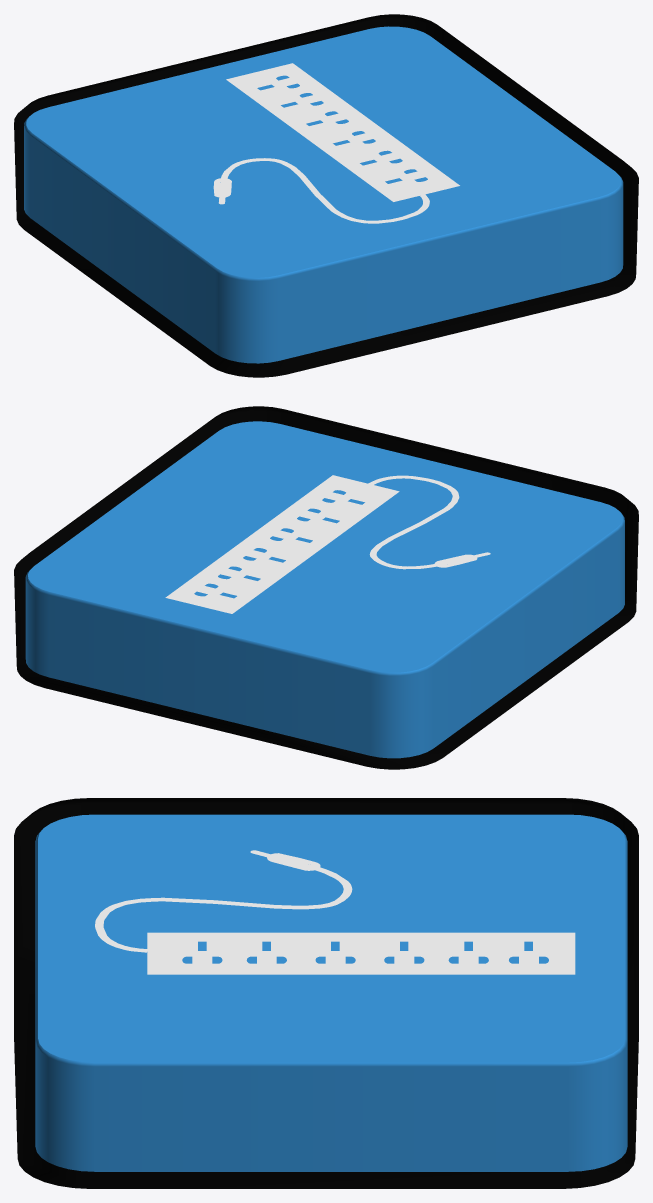
File: RPDU.obj
3 renders of one model, top to bottom at view 1: azimuth 30°, elevation 25°; view 2: azimuth 150°, elevation 25°; view 3: azimuth 270°, elevation 25°, orthographic. The views are drawn at different scales.
Parts seen in each view (by area): view 1: RPDU; view 2: RPDU; view 3: RPDU.
Boxes of the visible parts, x1,y1,x2,y2 form: RPDU: (14, 14, 638, 377); RPDU: (14, 406, 638, 769); RPDU: (14, 798, 638, 1188).
Bounding box in the file's own units: 1.06 × 0.2484 × 1.06.
